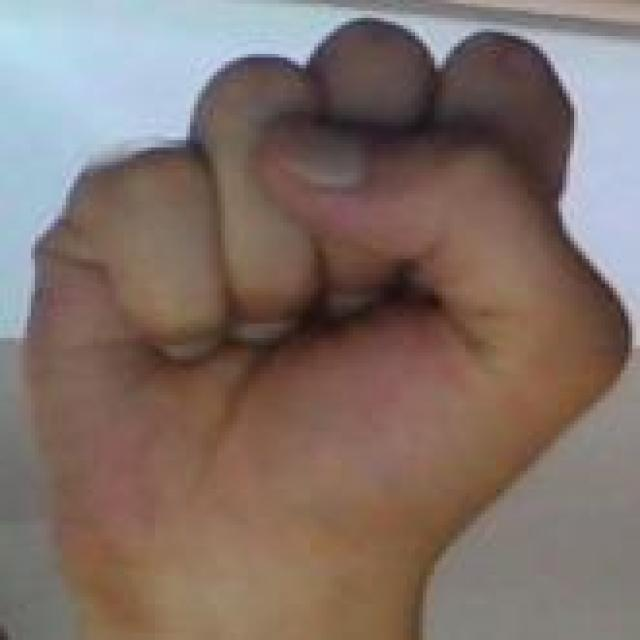S: (0, 7, 640, 568)
